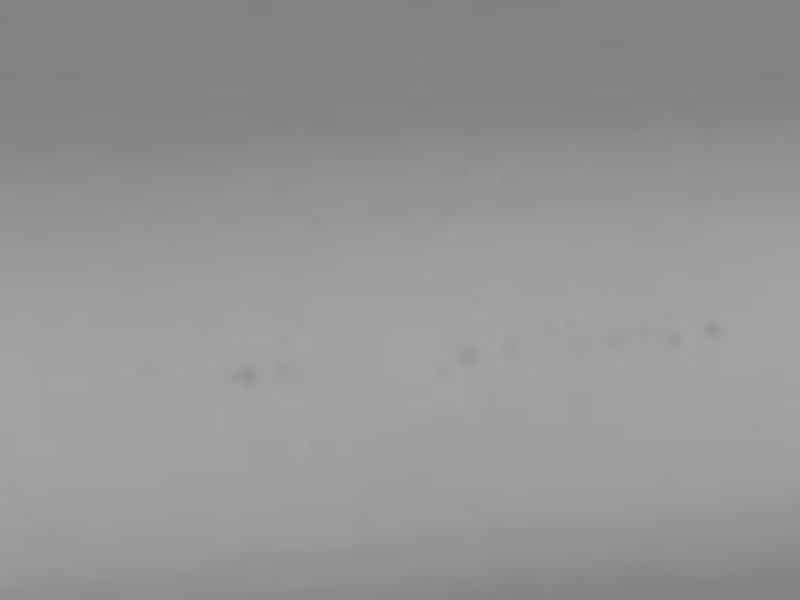defect: (457, 337, 481, 367), (231, 363, 260, 384), (632, 318, 653, 346), (701, 319, 726, 341), (599, 330, 625, 351), (568, 331, 588, 356), (498, 333, 518, 355), (667, 325, 684, 349), (273, 356, 290, 375)
